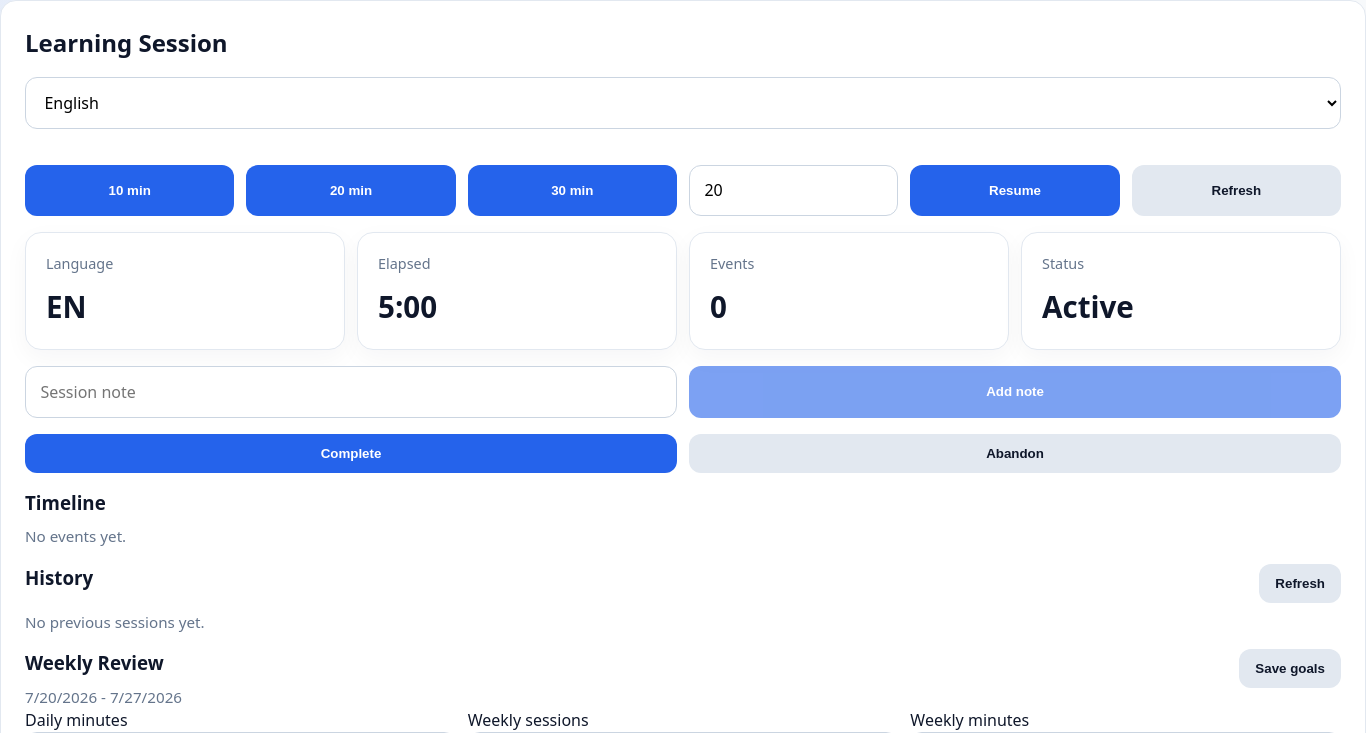
Test: LearningSessionPanel.vue › clears the active session after abandon but keeps summary and history available
Click the button "Abandon" at {"x": 1015, "y": 453}, box [689,434,1341,473]
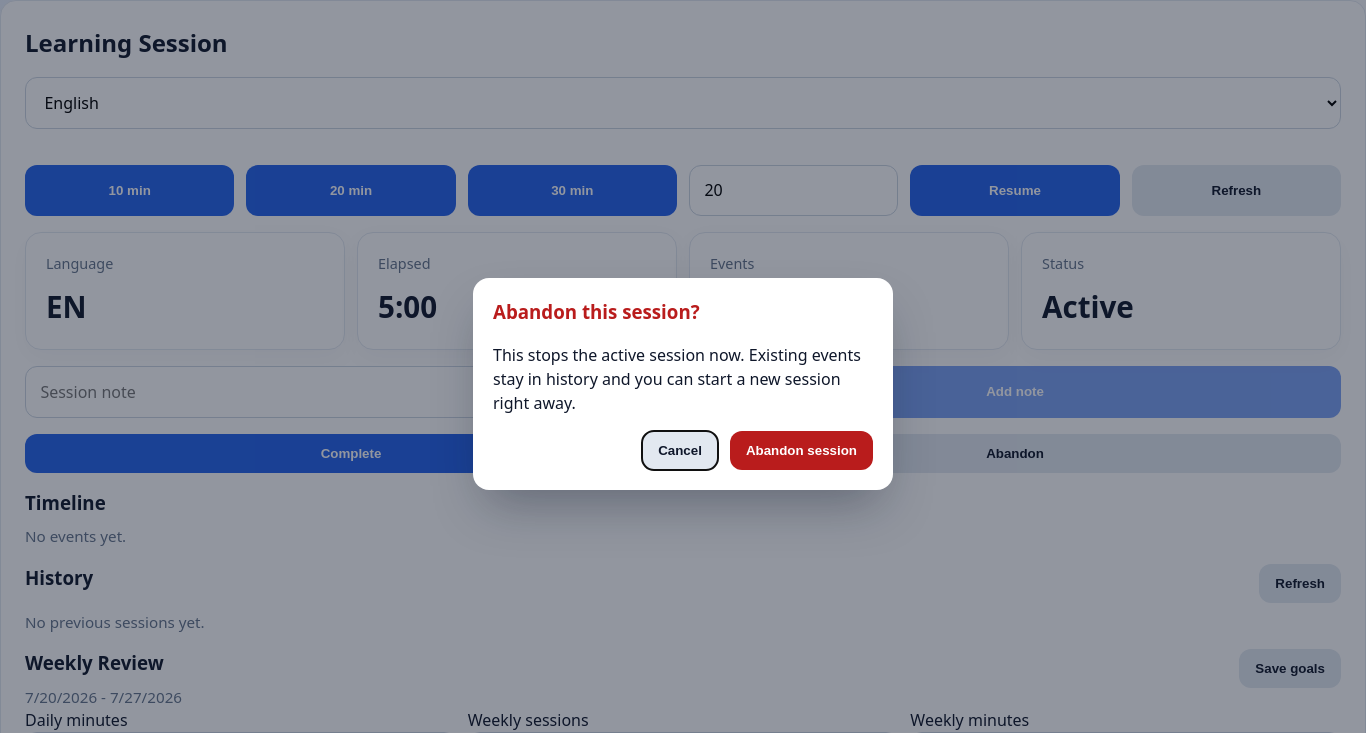
Click the button "Abandon session" at {"x": 801, "y": 450}, box [730,430,873,470]
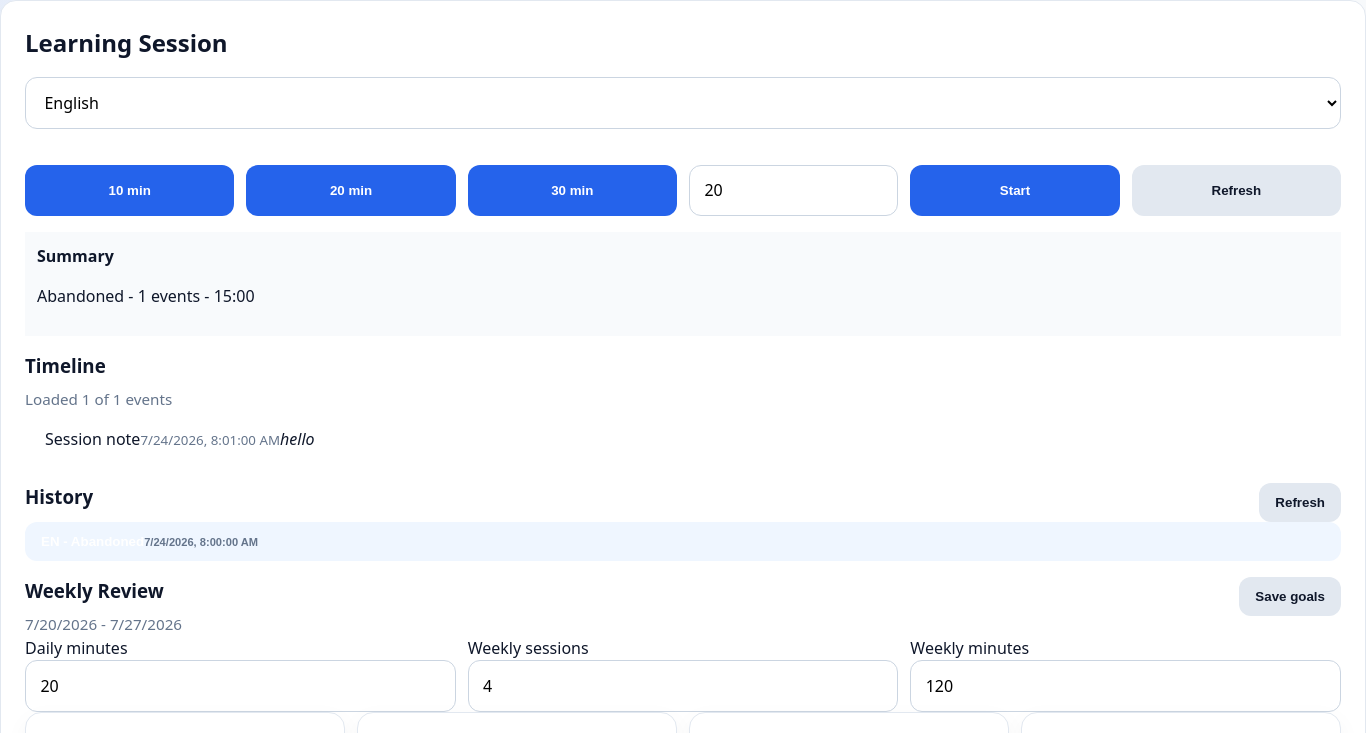
Expected: the text "Elapsed" is gone
Expected: the text "Summary" is shown, [37,245,114,267]
Expected: the text "Abandoned" is shown, [37,285,254,307]
